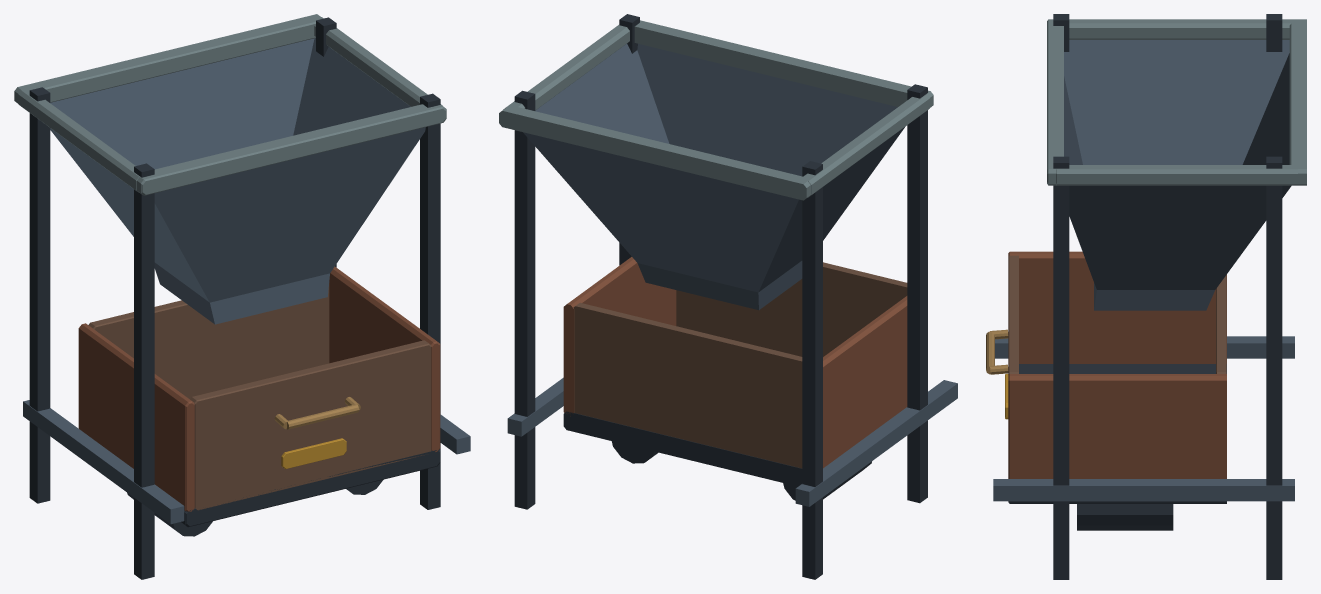
Rendered from S-06_ash_receiver.glb.
The picture shows the model from 3 angles, left to right: view 1: azimuth 30°, elevation 25°; view 2: azimuth 150°, elevation 25°; view 3: azimuth 270°, elevation 25°; orthographic projection. The views are drawn at different scales.
Visible parts, largest first — view 1: Hopper and rails, Pull-out bin; view 2: Hopper and rails, Pull-out bin; view 3: Hopper and rails, Pull-out bin.
Part boxes in pixels (x1,y1,x2,y2): Hopper and rails: (14,14,470,579); Pull-out bin: (78,266,440,536); Hopper and rails: (499,14,957,579); Pull-out bin: (563,257,907,500); Hopper and rails: (993,14,1306,579); Pull-out bin: (986,251,1226,530).
Bounding box in the file's own units: 1.22 × 1.56 × 1.09.
